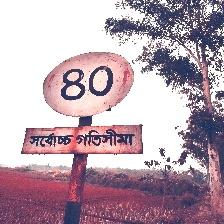Speed-limit: (22, 49, 144, 155)
